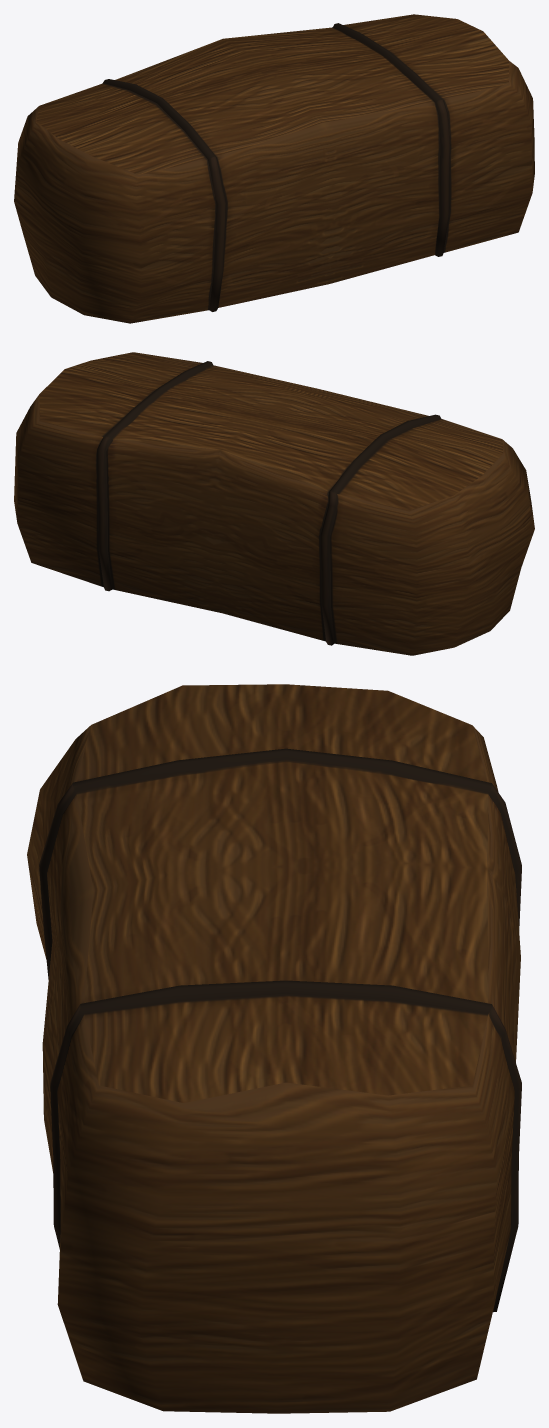
File: Haystack.fbx
3 views of the same model, one above another, from view 1: azimuth 30°, elevation 25°; view 2: azimuth 150°, elevation 25°; view 3: azimuth 270°, elevation 25° (orthographic). The views are drawn at different scales.
Visible parts, largest first — view 1: Haystack3; view 2: Haystack3; view 3: Haystack3.
Part boxes in pixels (x1,y1,x2,y2): Haystack3: (14, 14, 534, 323); Haystack3: (14, 352, 534, 655); Haystack3: (27, 684, 521, 1413).
Bounding box in the file's own units: 12.57 × 4.52 × 5.87.
